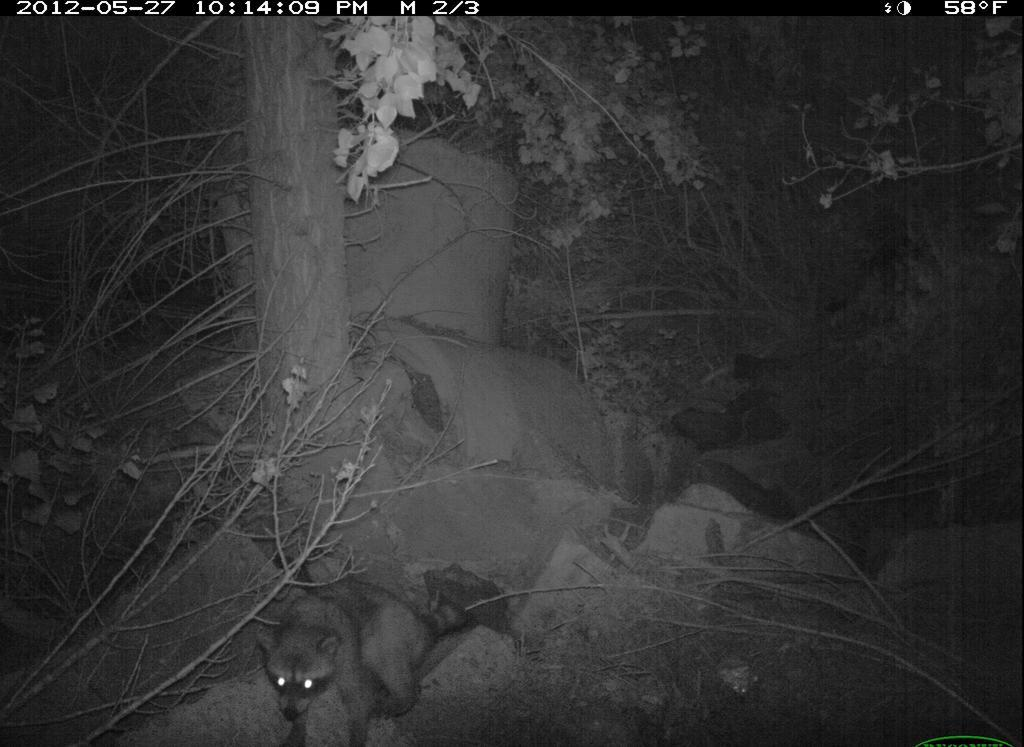raccoon: (253, 566, 474, 747)
